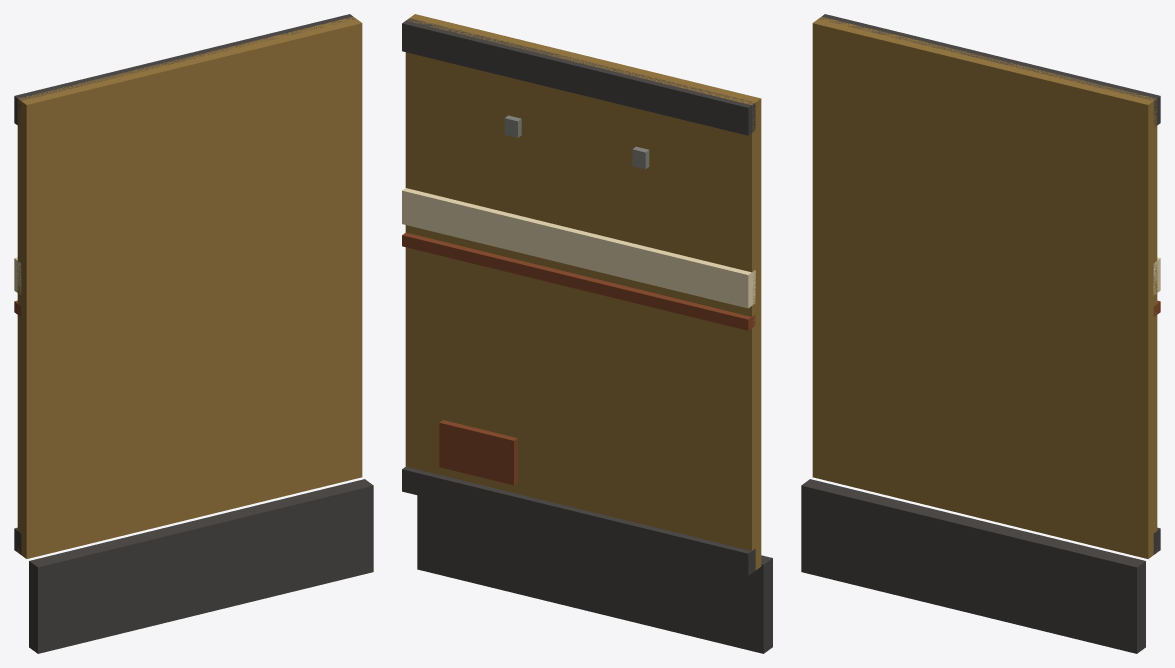
The model's file is body_side.glb.
The picture shows the model from 3 angles, left to right: view 1: azimuth 30°, elevation 25°; view 2: azimuth 150°, elevation 25°; view 3: azimuth 330°, elevation 25°; orthographic projection. The views are drawn at different scales.
Parts seen in each view (by area): view 1: body_side; view 2: body_side; view 3: body_side.
Part boxes in pixels (x1,y1,x2,y2): body_side: (14,14,373,653); body_side: (402,14,772,653); body_side: (801,14,1160,653).
Size of the model in its own units: 0.65 by 1 by 0.08.
